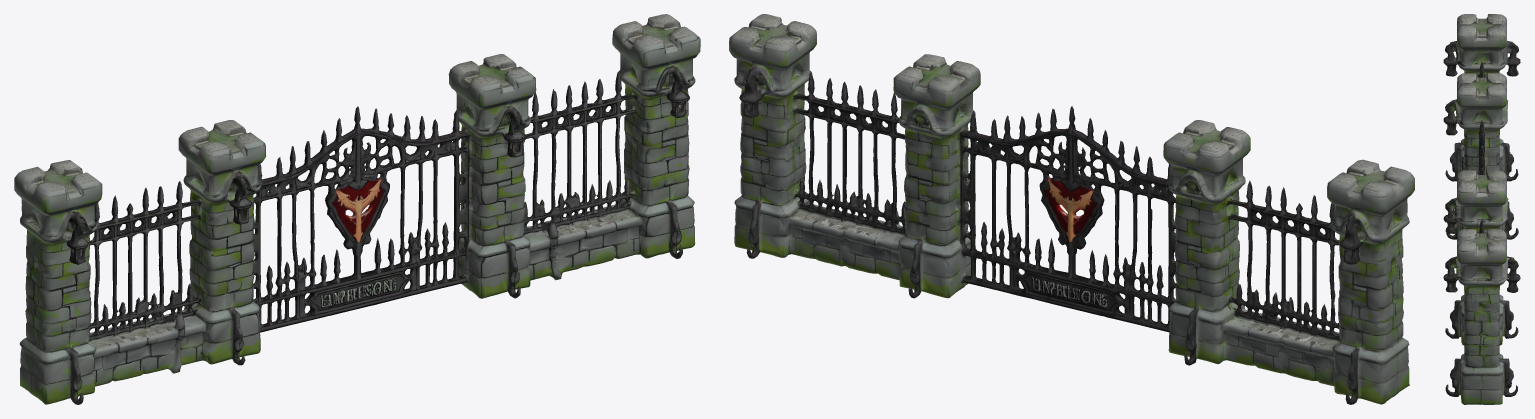
3 renders of one model, left to right at view 1: azimuth 30°, elevation 25°; view 2: azimuth 150°, elevation 25°; view 3: azimuth 270°, elevation 25°, orthographic. The views are drawn at different scales.
Parts seen in each view (by area): view 1: Mesh_0; view 2: Mesh_0; view 3: Mesh_0.
Part boxes in pixels (x1,y1,x2,y2): Mesh_0: [14, 14, 700, 404]; Mesh_0: [729, 14, 1414, 404]; Mesh_0: [1443, 14, 1520, 404].
Size of the model in its own units: 191 by 60.37 by 26.33.
Materials: 1 (1 with a texture image).
